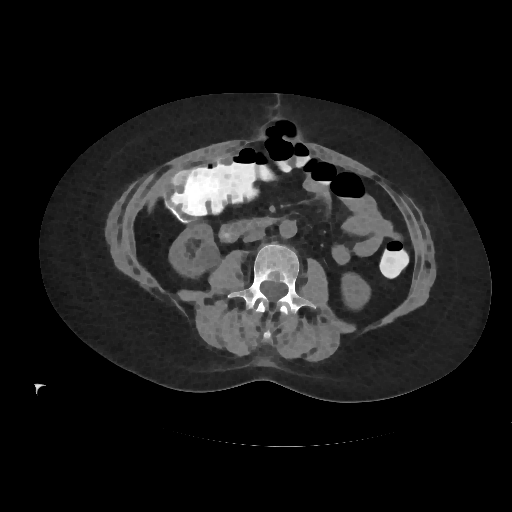Lesion: (195, 241, 224, 273)
